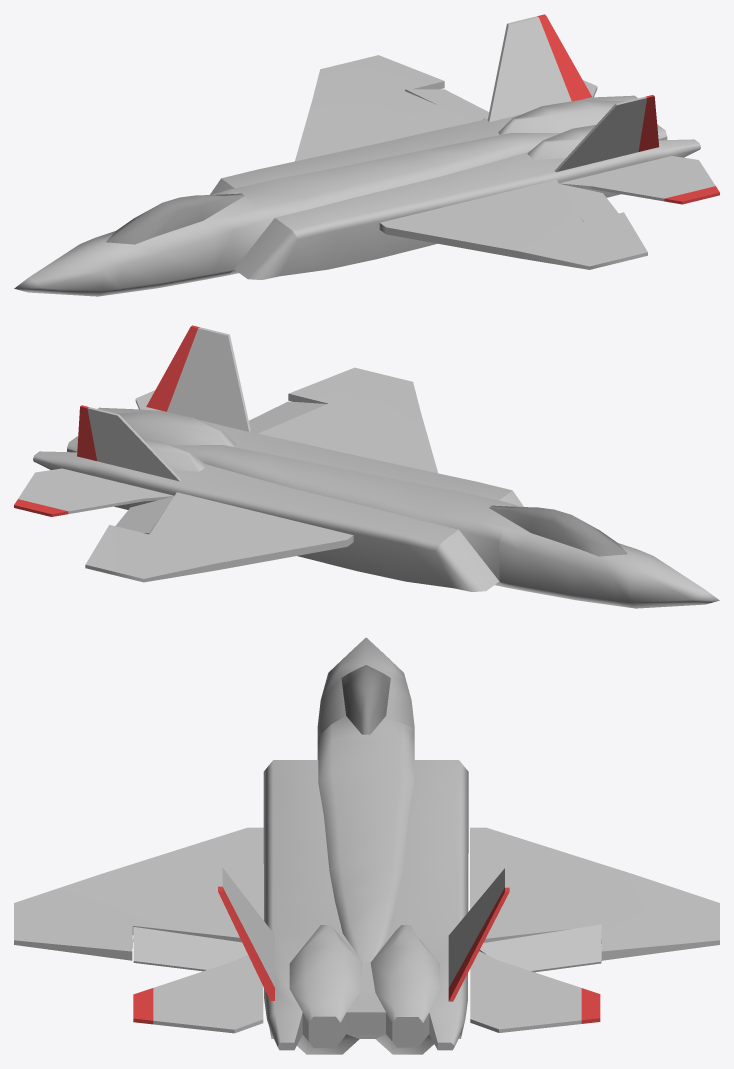
Rendered from Airplaine.fbx.
3 renders of one model, top to bottom at view 1: azimuth 30°, elevation 25°; view 2: azimuth 150°, elevation 25°; view 3: azimuth 270°, elevation 25°, orthographic. The views are drawn at different scales.
Parts seen in each view (by area): view 1: pCube13, pCube10, pCube11; view 2: pCube13, pCube11, pCube10; view 3: pCube13, pCube11, pCube10.
Part boxes in pixels (x1,y1,x2,y2): pCube13: (14,14,719,296); pCube10: (379,179,647,269); pCube11: (295,55,488,161); pCube13: (14,325,719,608); pCube11: (85,492,353,582); pCube10: (249,367,437,473); pCube13: (133,637,600,1054); pCube11: (470,827,719,972); pCube10: (14,827,263,971).
Bounding box in the file's own units: 17.38 × 3.18 × 12.41.
